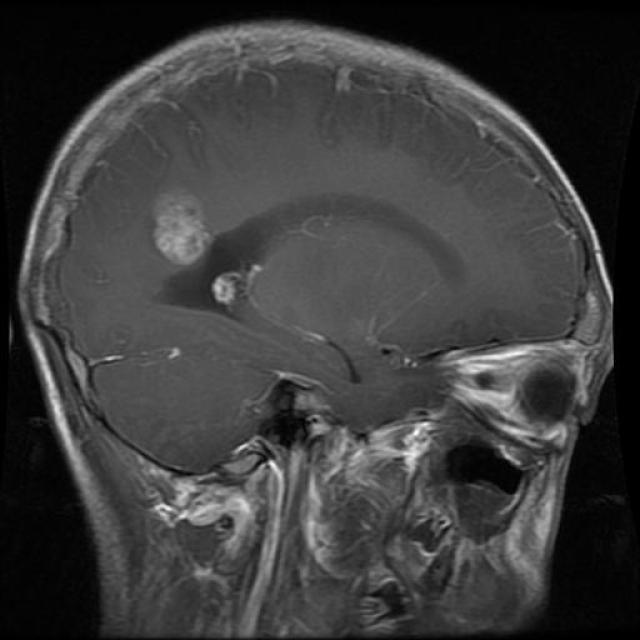glioma: (144, 182, 228, 278)
